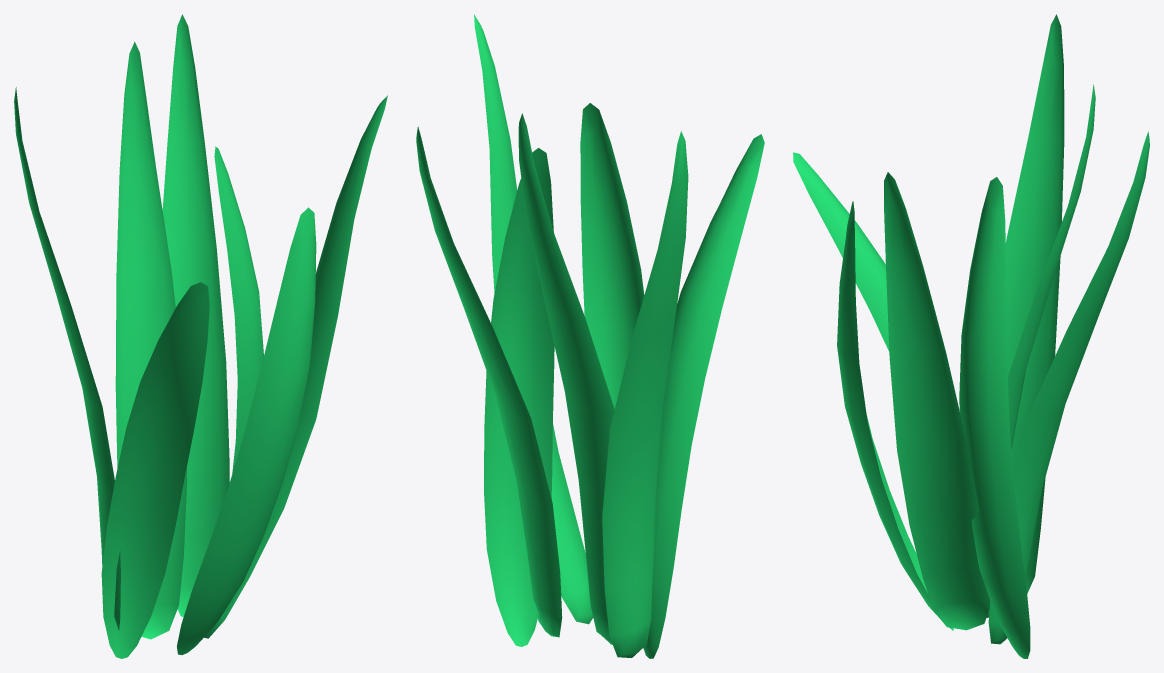
The model's file is Leaf.fbx.
3 views of the same model, side by side, from view 1: azimuth 30°, elevation 25°; view 2: azimuth 150°, elevation 25°; view 3: azimuth 270°, elevation 25° (orthographic).
Parts seen in each view (by area): view 1: GRASS; view 2: GRASS; view 3: GRASS.
Part boxes in pixels (bbox=[...]): GRASS: bbox=[14, 14, 387, 658]; GRASS: bbox=[416, 14, 764, 658]; GRASS: bbox=[793, 14, 1149, 658].
Size of the model in its own units: 64.8 by 60.79 by 113.
